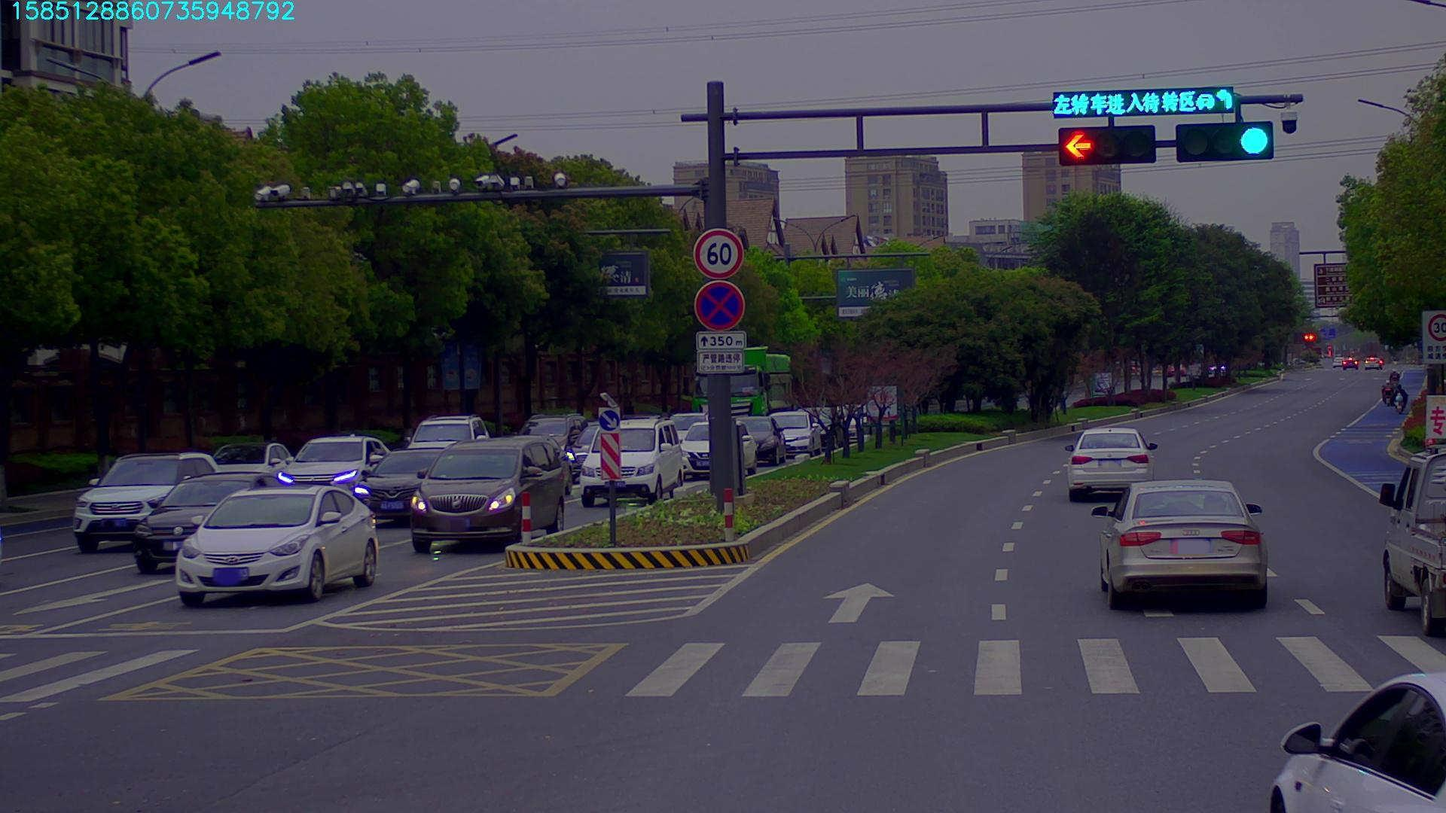green: (1180, 129, 1276, 164)
red: (1058, 129, 1150, 164)
wait_on: (1054, 87, 1237, 108)
